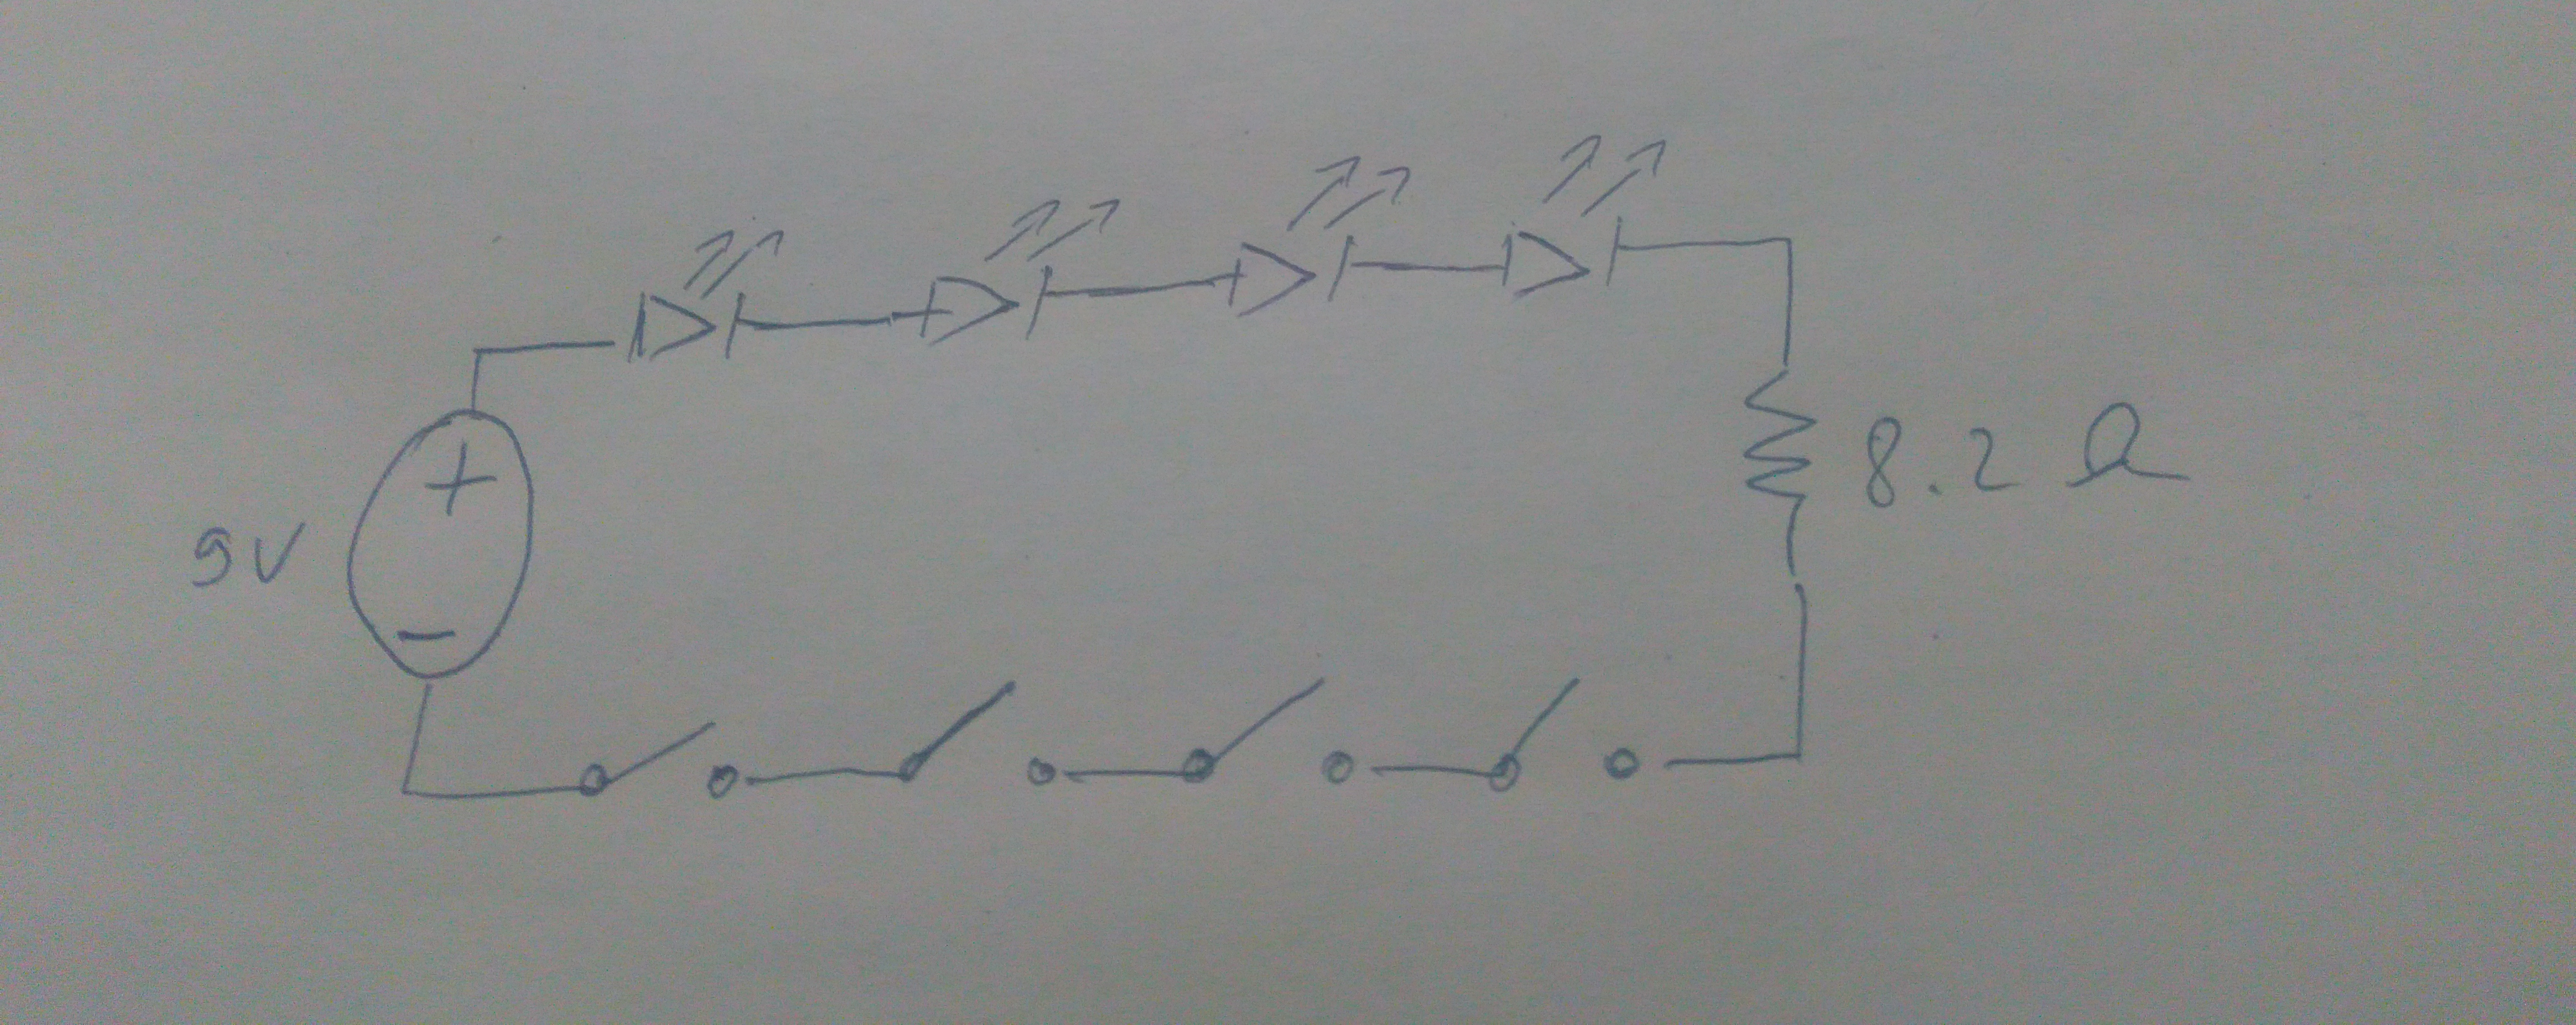diode.light_emitting: (1183, 148, 1429, 338), (899, 179, 1135, 361), (1470, 120, 1690, 314), (600, 217, 808, 381)
junction: (1759, 711, 1819, 792), (1758, 215, 1820, 281), (383, 761, 432, 810), (453, 332, 501, 381)
resistor: (1712, 358, 1842, 539)
switch: (1161, 659, 1387, 808), (1454, 659, 1676, 807), (866, 660, 1079, 807), (555, 700, 752, 813)
text: (1856, 393, 2219, 526), (145, 509, 319, 604)
voltage.dc: (325, 396, 550, 696)
